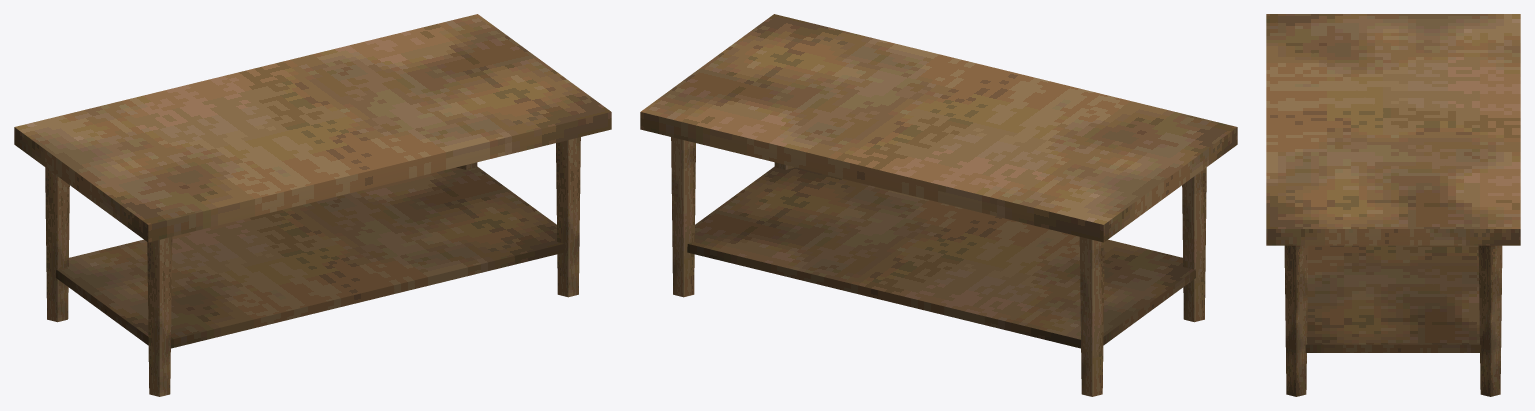
File: coffee_table_oak.glb
3 views of the same model, side by side, from view 1: azimuth 30°, elevation 25°; view 2: azimuth 150°, elevation 25°; view 3: azimuth 270°, elevation 25° (orthographic). The views are drawn at different scales.
Visible parts, largest first — view 1: coffee_table_oak; view 2: coffee_table_oak; view 3: coffee_table_oak.
Part boxes in pixels (bbox=[...]): coffee_table_oak: bbox=[14, 14, 611, 396]; coffee_table_oak: bbox=[640, 14, 1237, 396]; coffee_table_oak: bbox=[1266, 14, 1520, 396].
Bounding box in the file's own units: 1.1 × 0.42 × 0.55.
Materials: 1 (1 with a texture image).
